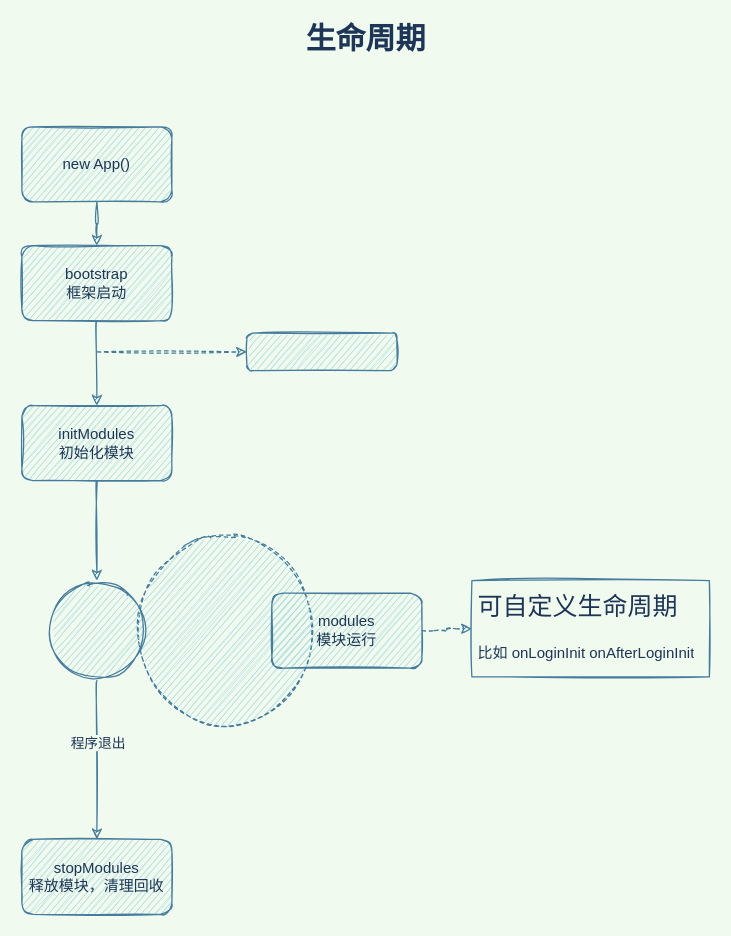
This 731x936 diagram has some shape labels left out. Each missing label, with the centre of its shape:
"Running 程序运行" belongs at point (96, 630).
"游戏循环" belongs at point (224, 630).
"自定义启动逻辑" belongs at point (321, 351).
